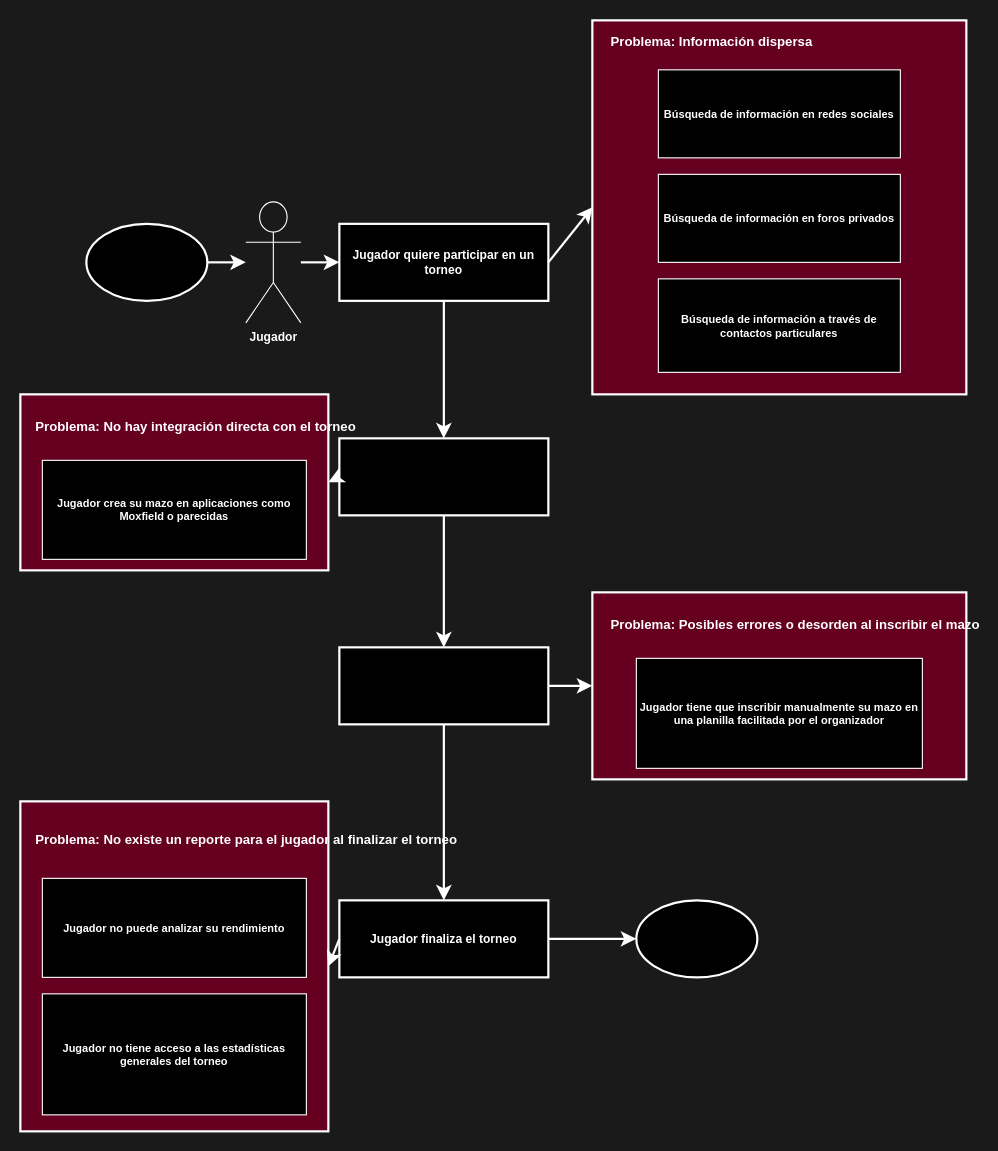
Image size: 998x1151. Some labels were removed from this diagram. The shapes that lost their labels are listed below. From the top down, each one's centre as x and y in pixels, then its label:
At point (146, 261): "INICIO".
At point (443, 476): "Jugador quiere crear y gestionar su mazo".
At point (443, 685): "Jugador quiere inscribir su mazo para el torneo".
At point (696, 938): "FINAL".
